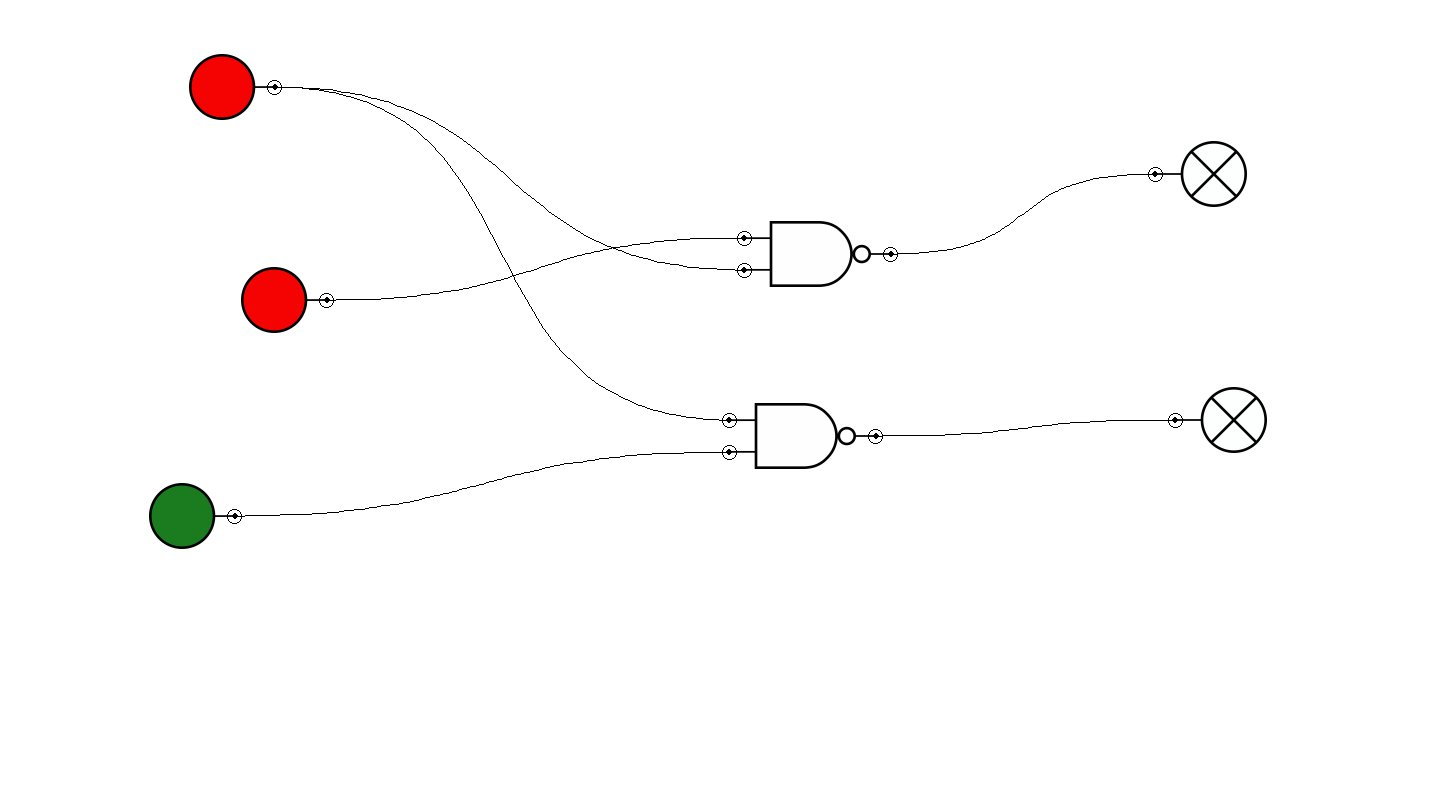bulb: (1168, 387, 1267, 453), (1148, 141, 1247, 207)
nand: (737, 221, 898, 287), (722, 403, 883, 469)
switch_False: (189, 54, 282, 120), (241, 267, 334, 333)
switch_True: (149, 483, 242, 549)
